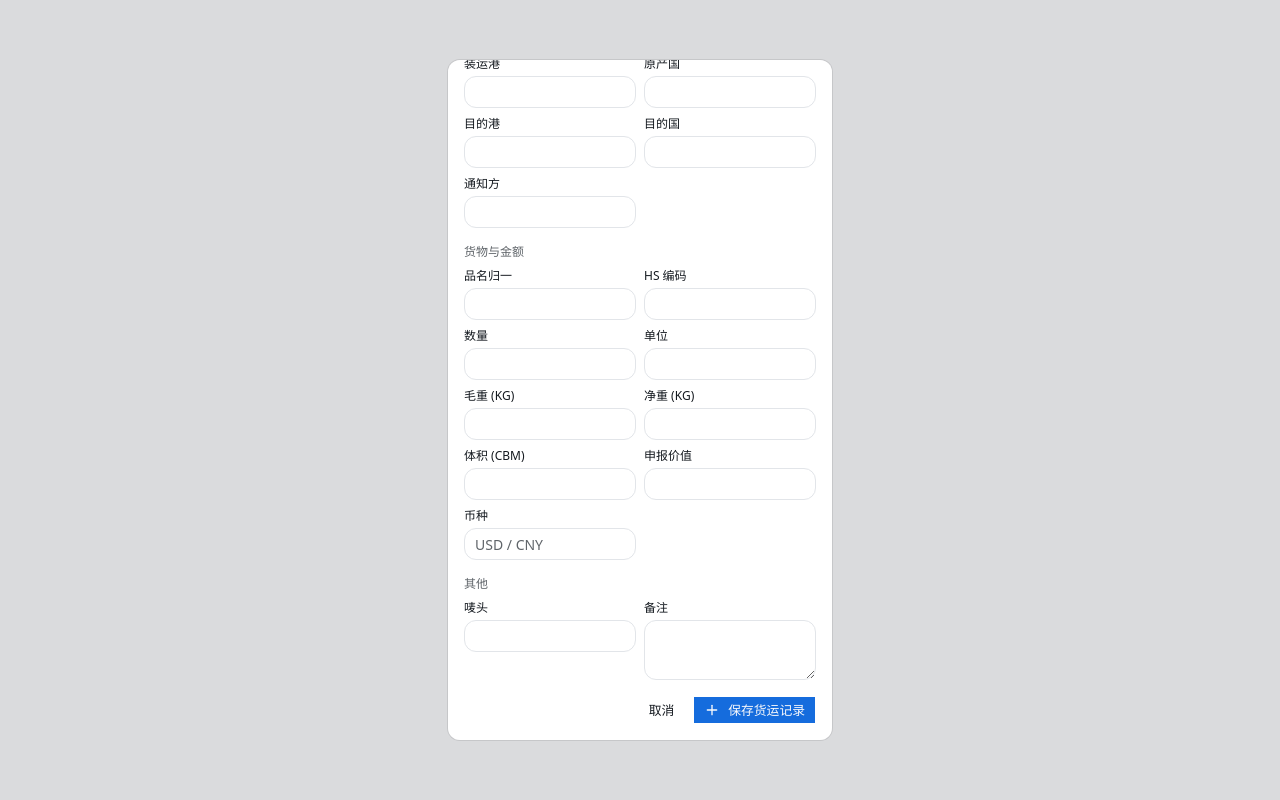
Test: ManualShipmentDialog › 三个必填为空时本地拦截（字段级错误可见）
(page scrolled)
Click the button "保存货运记录": (755, 710) [693,696,816,724]
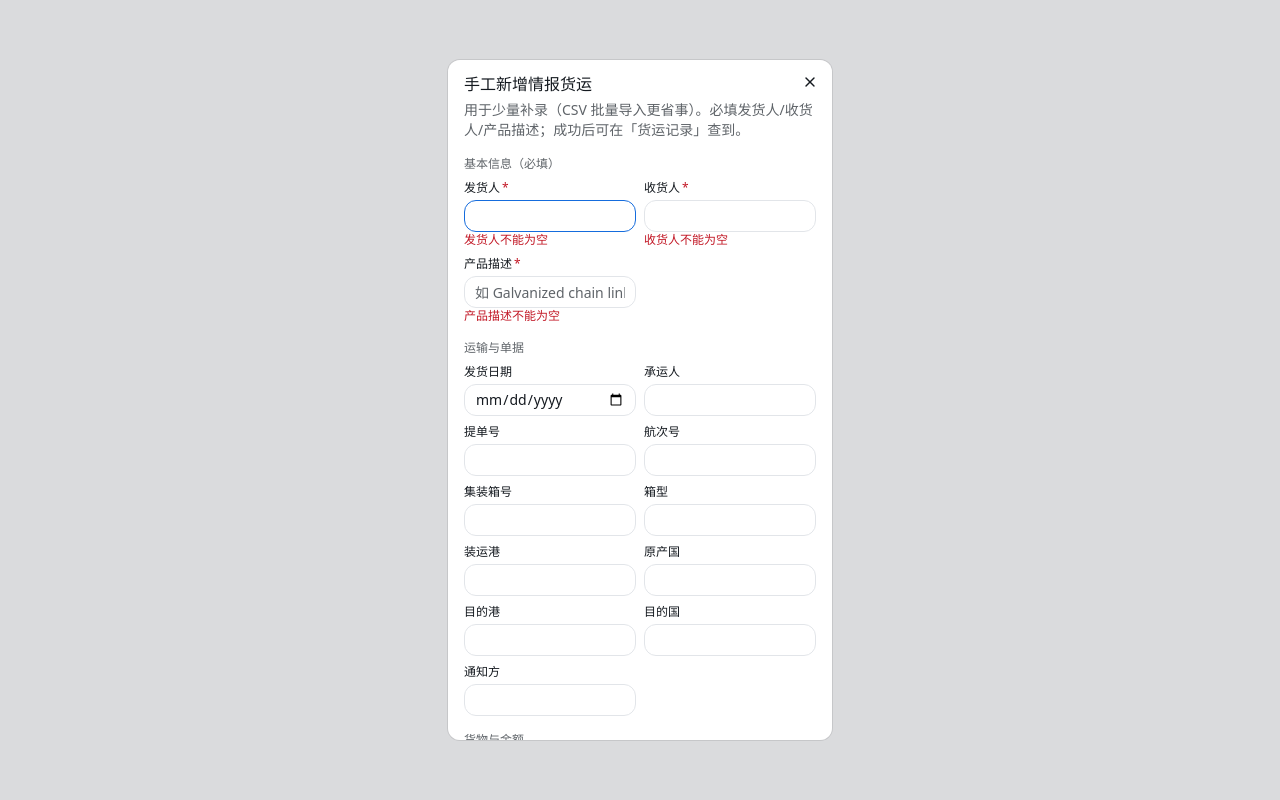
Now the text "发货人不能为空" is shown, box [464,231,548,248]
Now the text "收货人不能为空" is shown, box [644,231,728,248]
Now the text "产品描述不能为空" is shown, box [464,307,560,324]
